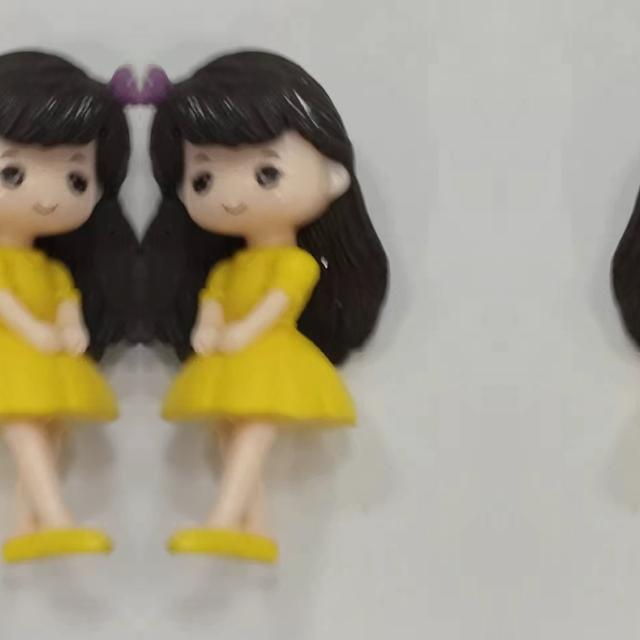woman dress: (150, 248, 358, 590), (0, 248, 129, 590)
woman head: (140, 38, 388, 282), (0, 37, 140, 282), (612, 37, 640, 282)
